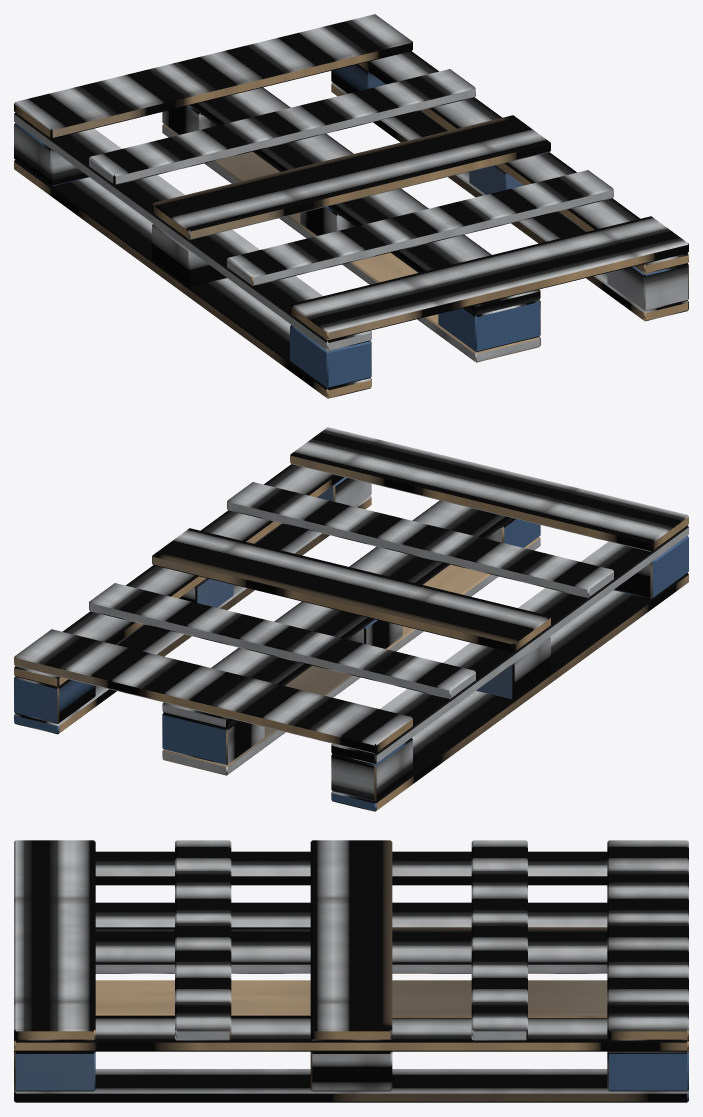
Rendered from EuroPallet.fbx.
The picture shows the model from 3 angles, top to bottom: view 1: azimuth 30°, elevation 25°; view 2: azimuth 150°, elevation 25°; view 3: azimuth 270°, elevation 25°; orthographic projection. The views are drawn at different scales.
Parts seen in each view (by area): view 1: EuroPallet_LOD0; view 2: EuroPallet_LOD0; view 3: EuroPallet_LOD0.
Part boxes in pixels (x1,y1,x2,y2): EuroPallet_LOD0: (14, 14, 688, 398); EuroPallet_LOD0: (14, 427, 688, 811); EuroPallet_LOD0: (14, 840, 688, 1102).
Size of what is drawn, in the model's own units: 0.8 by 0.144 by 1.2.
